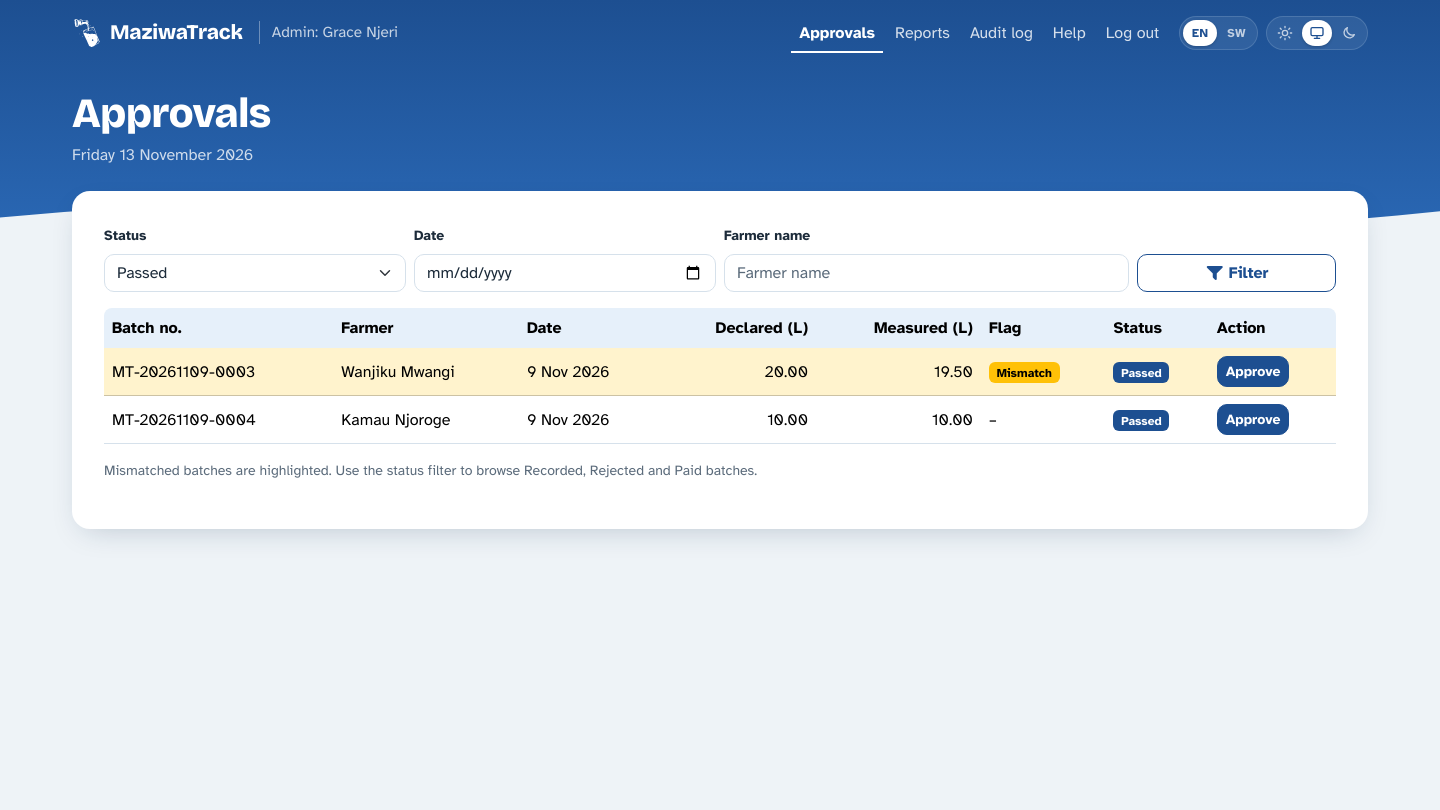
Scenario: Approvals › P4: tells the admin when the receipt email could not be sent
What coordinates should you click on to do the following:
click the button "Approve" in the row of "MT-20261109-0004"
I would click on:
 (1253, 420)
Its box is [1217,404,1289,435].
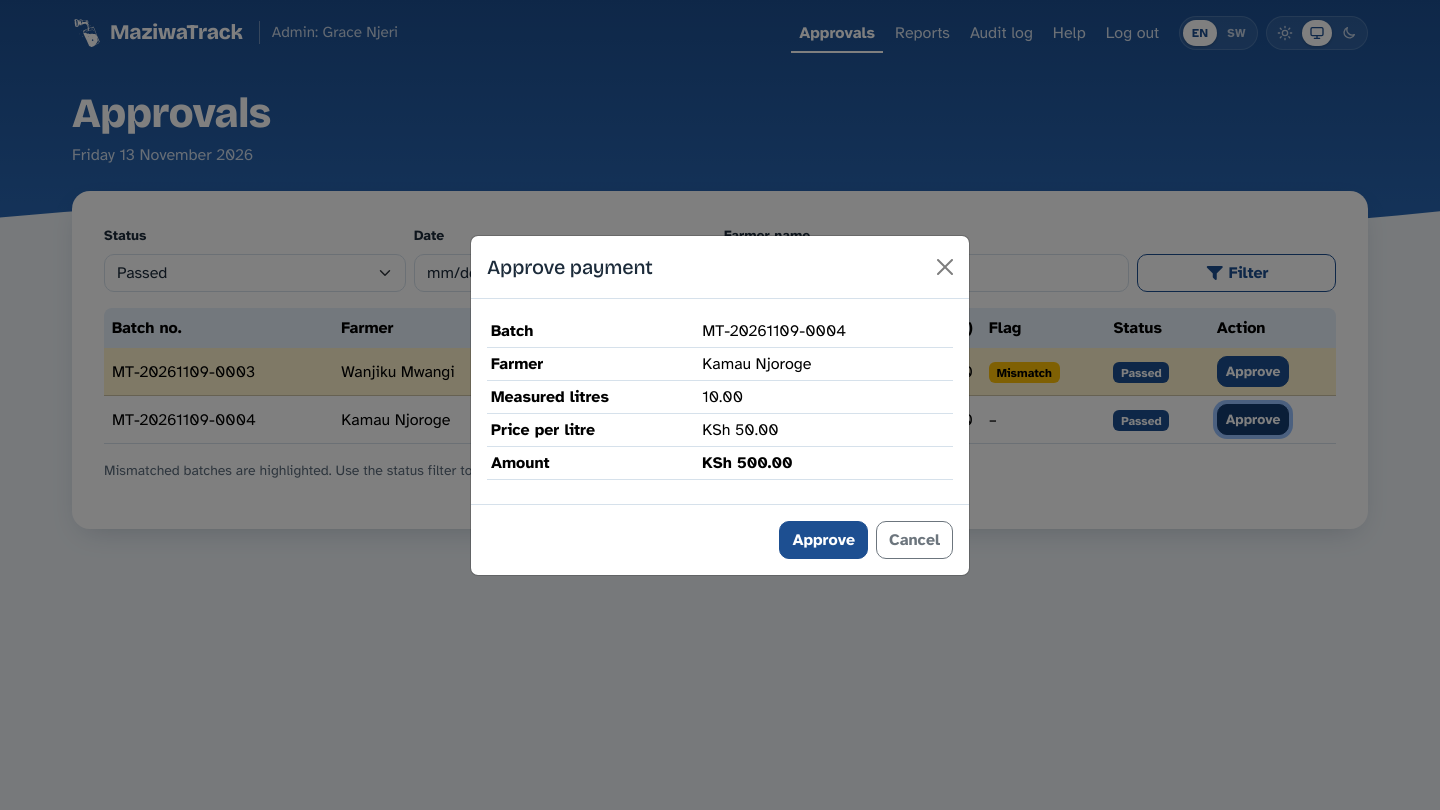
What coordinates should you click on to do the following:
click the button "Approve"
I would click on:
 (824, 540)
Its box is [779,520,868,558].
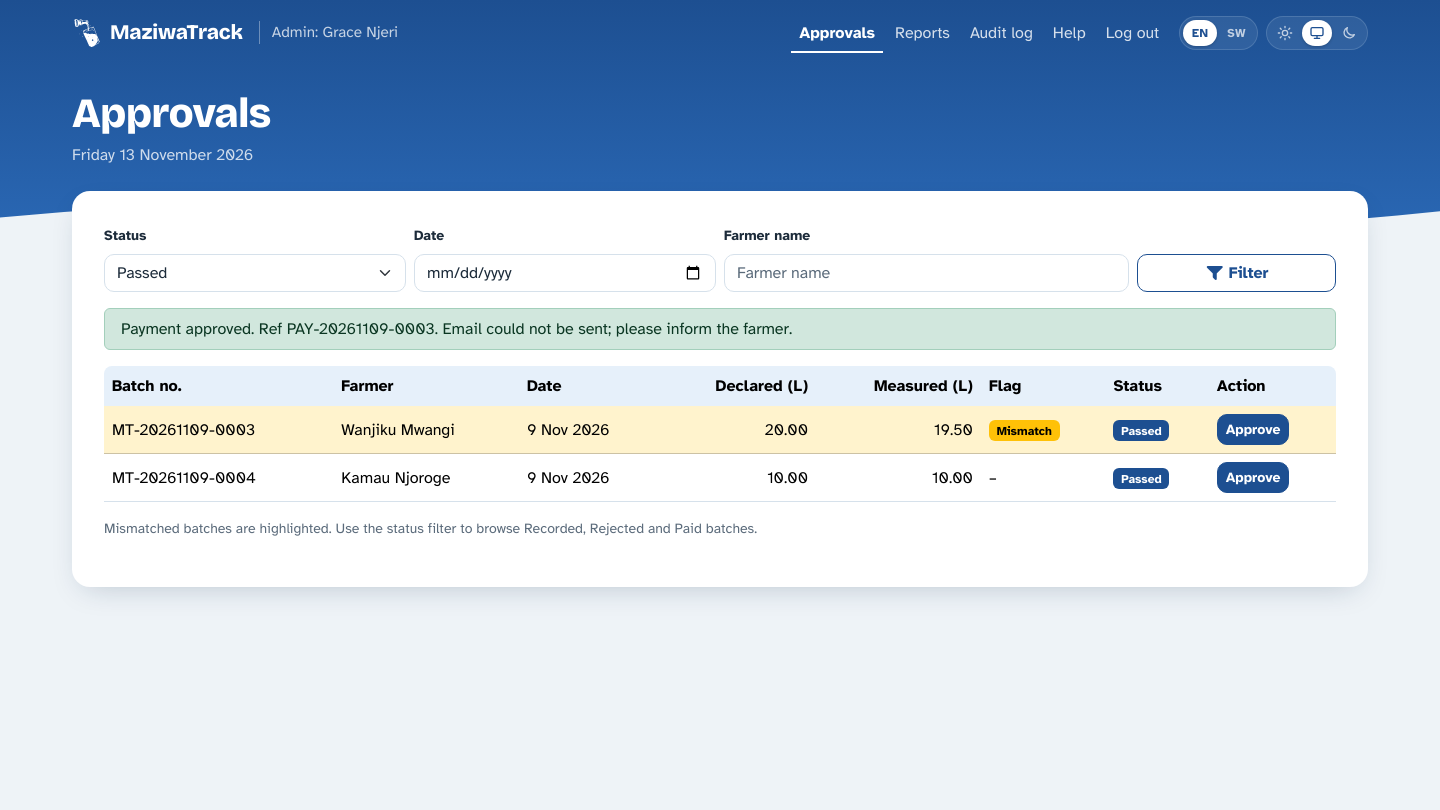
Check: the text "Email could not be sent; please inform the farmer." is shown, box [121,319,792,339]
